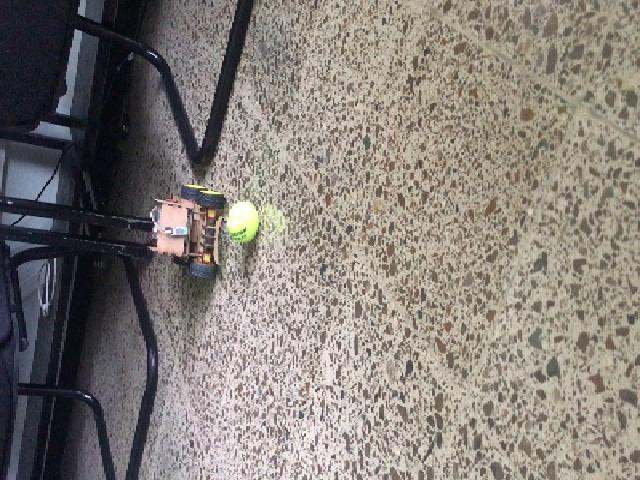Ball: (222, 199, 261, 245)
Robot: (147, 182, 224, 278)
